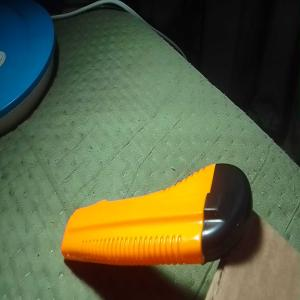estilete: (60, 163, 254, 267)
